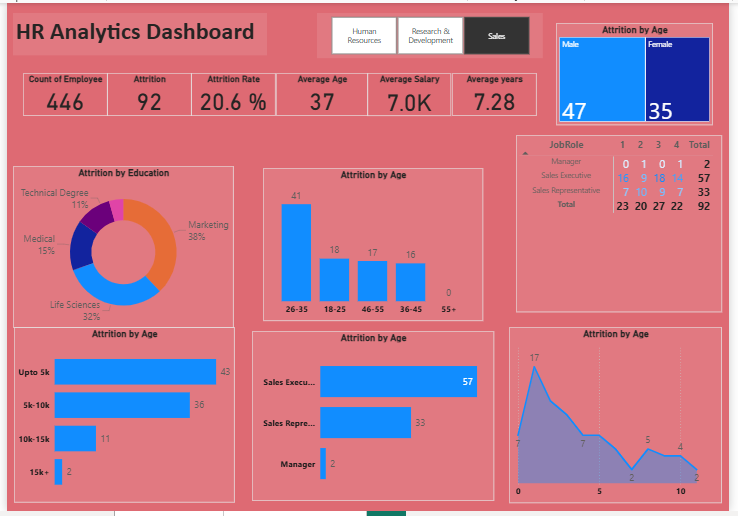

The page's visual inventory and layout, read from the dashboard file:
{"tool":"powerbi","page":{"name":"HR Analytics","canvas":[1280,900],"ordinal":0},"visuals":[{"type":"card","title":"Count of Employee","fields":{"Values":["CountNonNull(HR_Analytics.EmpID)"]},"box":[27.8,123.6,149.5,75.6],"z":0},{"type":"card","title":"Attrition","fields":{"Values":["Sum(HR_Analytics.Attrition Count)"]},"box":[177.3,123.6,149.5,75.6],"z":1000},{"type":"card","title":"Average years","fields":{"Values":["Avg(HR_Analytics.YearsAtCompany)"]},"box":[788.7,123.6,149.5,75.6],"z":2000},{"type":"card","title":"Average Salary","fields":{"Values":["Avg(HR_Analytics.MonthlyIncome)"]},"box":[638.7,123.4,149.4,76.4],"z":3000},{"type":"card","title":"Average Age","fields":{"Values":["Avg(HR_Analytics.Age)"]},"box":[476.3,123.6,162.9,75.6],"z":4000},{"type":"card","title":"Attrition Rate","fields":{"Values":["HR_Analytics.Attrition Rate"]},"box":[326.8,123.6,149.5,75.6],"z":5000},{"type":"donutChart","title":"Attrition by Education","fields":{"Category":["HR_Analytics.EducationField"],"Y":["Sum(HR_Analytics.Attrition Count)"]},"box":[10.4,288.4,390.9,286.7],"z":6000},{"type":"columnChart","title":"Attrition by Age","fields":{"Category":["HR_Analytics.AgeGroup"],"Y":["Sum(HR_Analytics.Attrition Count)"]},"box":[453.5,292.3,389.8,271.1],"z":7000},{"type":"pivotTable","fields":{"Rows":["HR_Analytics.JobRole"],"Columns":["HR_Analytics.JobSatisfaction"],"Values":["Sum(HR_Analytics.Attrition Count)"]},"box":[902.3,233.9,364.9,314.5],"z":8000},{"type":"clusteredBarChart","title":"Attrition by Age","fields":{"Category":["HR_Analytics.SalarySlab"],"Y":["Sum(HR_Analytics.Attrition Count)"]},"box":[12.7,574.4,390.9,311],"z":9000},{"type":"clusteredBarChart","title":"Attrition by Age","fields":{"Y":["Sum(HR_Analytics.Attrition Count)"],"Category":["HR_Analytics.JobRole"]},"box":[433.7,580.3,429.2,300.6],"z":10000},{"type":"areaChart","title":"Attrition by Age","fields":{"Category":["HR_Analytics.YearsAtCompany"],"Y":["Sum(HR_Analytics.Attrition Count)"]},"box":[890.1,574.4,389.2,311],"z":11000},{"type":"treemap","title":"Attrition by Age","fields":{"Group":["HR_Analytics.Gender"],"Values":["Sum(HR_Analytics.Attrition Count)"]},"box":[973,34.7,278,180.7],"z":12000},{"type":"slicer","fields":{"Values":["HR_Analytics.Department"]},"box":[550,17,400,80],"z":13000},{"type":"textbox","box":[10,17,450,75],"z":14000}]}

Visuals, with their boxes in screenshot pixels (x1, y1, x2, y2), scaled from the page's 1280x900 canvas onto the 738x516 screenshot:
"Count of Employee" card: (16,71,102,114)
"Attrition" card: (102,71,188,114)
"Average years" card: (455,71,541,114)
"Average Salary" card: (368,71,454,115)
"Average Age" card: (275,71,369,114)
"Attrition Rate" card: (188,71,275,114)
"Attrition by Education" donutChart: (6,165,231,330)
"Attrition by Age" columnChart: (261,168,486,323)
pivotTable - HR_Analytics.JobRole x HR_Analytics.JobSatisfaction: (520,134,731,314)
"Attrition by Age" clusteredBarChart: (7,329,233,508)
"Attrition by Age" clusteredBarChart: (250,333,498,505)
"Attrition by Age" areaChart: (513,329,737,508)
"Attrition by Age" treemap: (561,20,721,123)
slicer - HR_Analytics.Department: (317,10,548,56)
textbox: (6,10,265,53)
